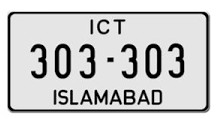0: (52, 42, 74, 81), (144, 40, 162, 80)
3: (27, 42, 49, 81), (77, 42, 99, 81), (166, 40, 186, 80), (119, 42, 140, 80)
A: (136, 88, 150, 106), (79, 88, 92, 106), (109, 88, 122, 106)
B: (122, 87, 136, 106)
C: (96, 18, 111, 35)
D: (150, 88, 163, 106)
I: (87, 18, 96, 35), (51, 88, 57, 105)
L: (68, 88, 78, 106)
M: (93, 87, 108, 106)
S: (57, 88, 68, 106)
T: (112, 17, 126, 36)
